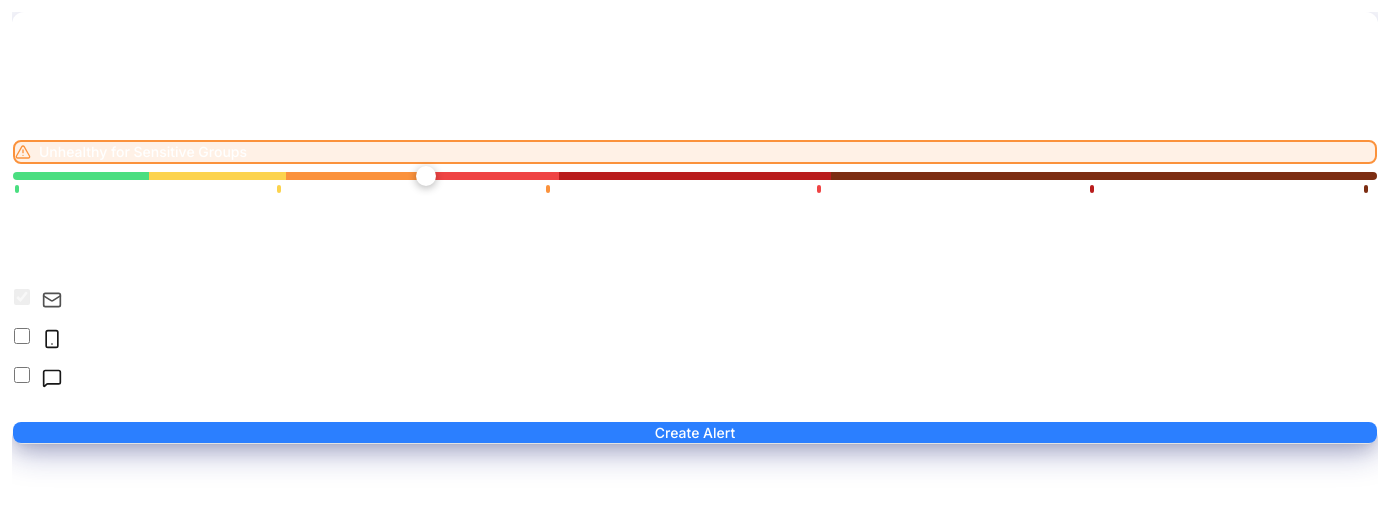
it: AlertConfigurationCardConnected › Successful Alert Creation › should allow dismissing success message manually
Click the button "Create Alert": (695, 432) [13,422,1377,443]
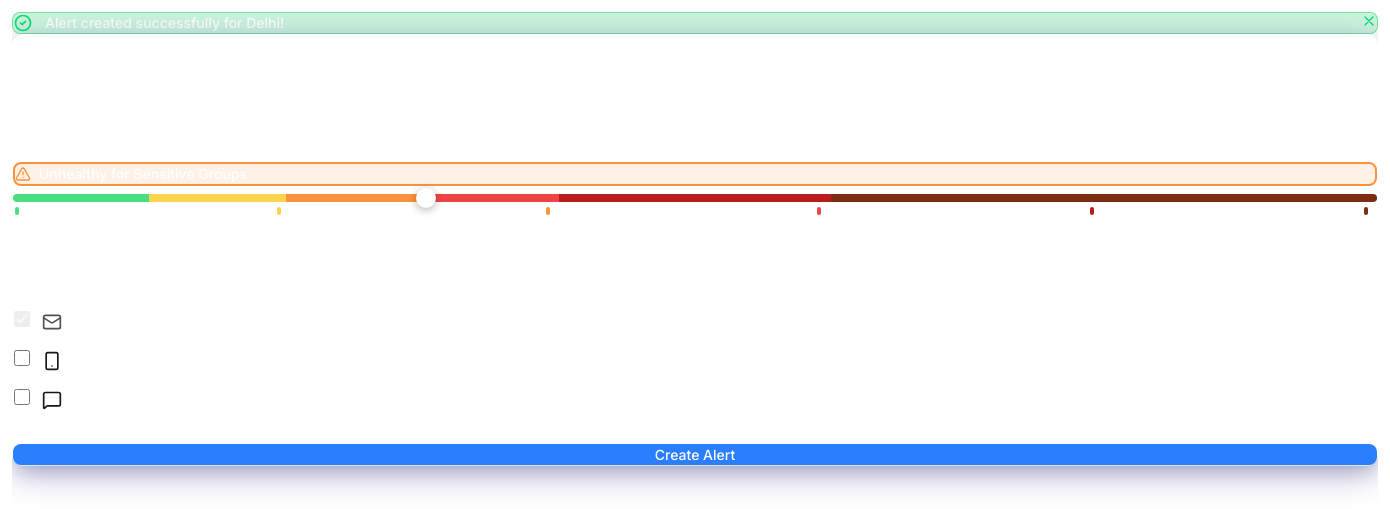
Expected: the text "Alert created successfully for Delhi!" is shown, [45,14,284,31]
Find and click dismiss button
Click the button named "Dismiss success message": (1369, 21) [1361,13,1377,29]
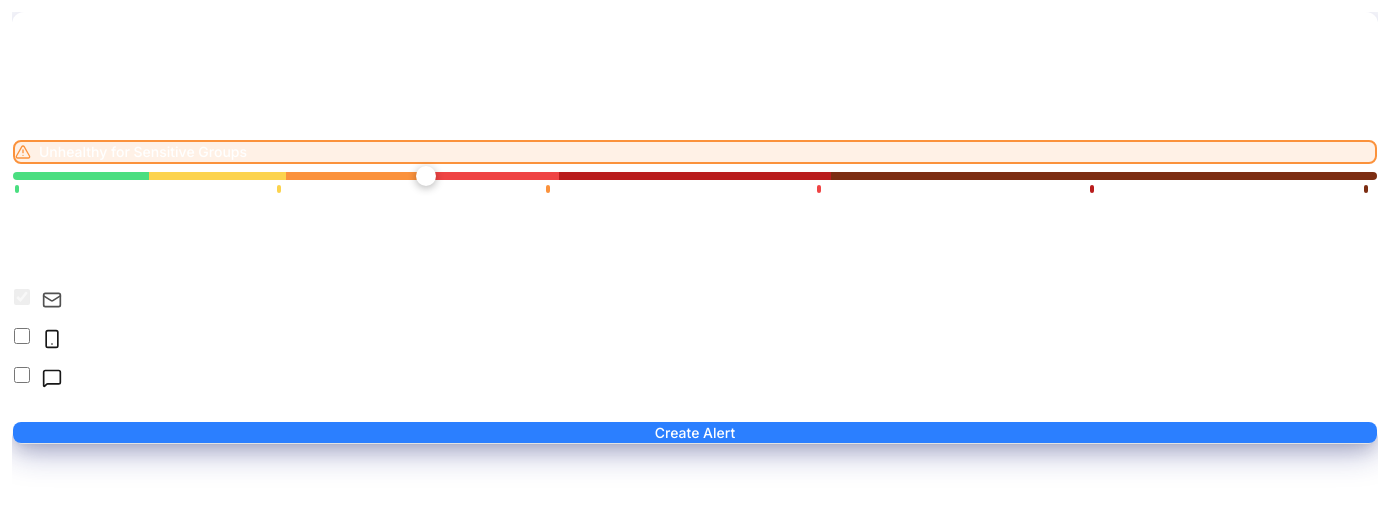
Expected: the text "Alert created successfully" is gone
